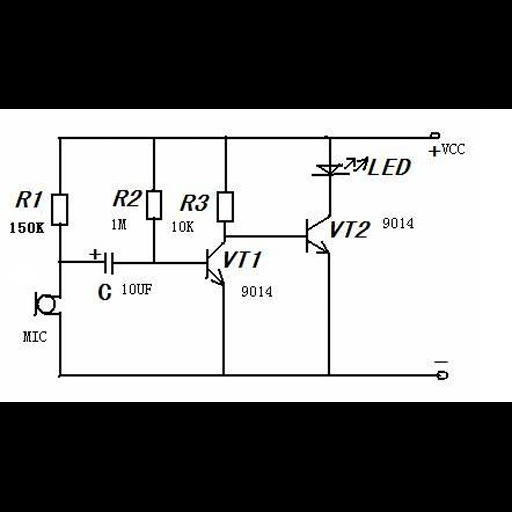firstpolarcapacitor: (84, 245, 122, 276)
firstresistance: (49, 191, 73, 228), (214, 189, 239, 224), (145, 187, 164, 222)
npn: (293, 212, 332, 264), (192, 239, 226, 295)
secondled: (305, 151, 370, 186)
